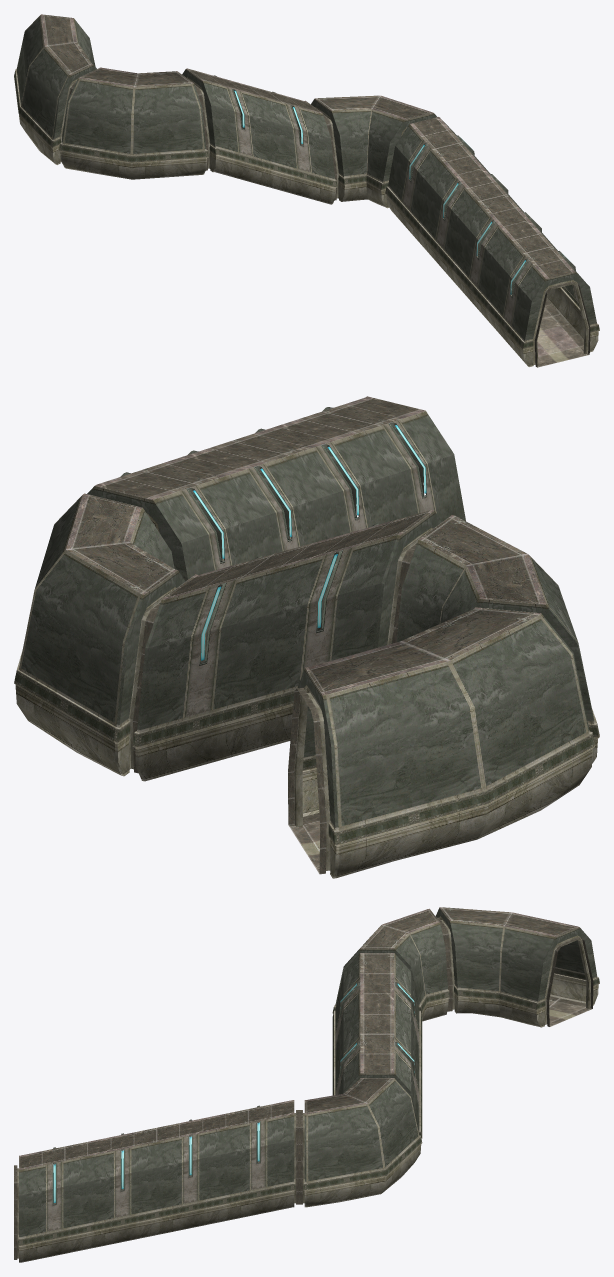
The model's file is thm_yavn_jedi_enclave_light_r8_tier5hall2_mesh_r8.fbx.
3 views of the same model, one above another, from view 1: azimuth 30°, elevation 25°; view 2: azimuth 150°, elevation 25°; view 3: azimuth 270°, elevation 25° (orthographic). The views are drawn at different scales.
Parts seen in each view (by area): view 1: mesh_node; view 2: mesh_node; view 3: mesh_node.
Boxes of the visible parts, x1,y1,x2,y2 form: mesh_node: (14,14,599,367); mesh_node: (14,396,599,878); mesh_node: (14,907,599,1262).
Bounding box in the file's own units: 14.67 × 8.17 × 21.55.
Materials: 3 (3 with a texture image).
